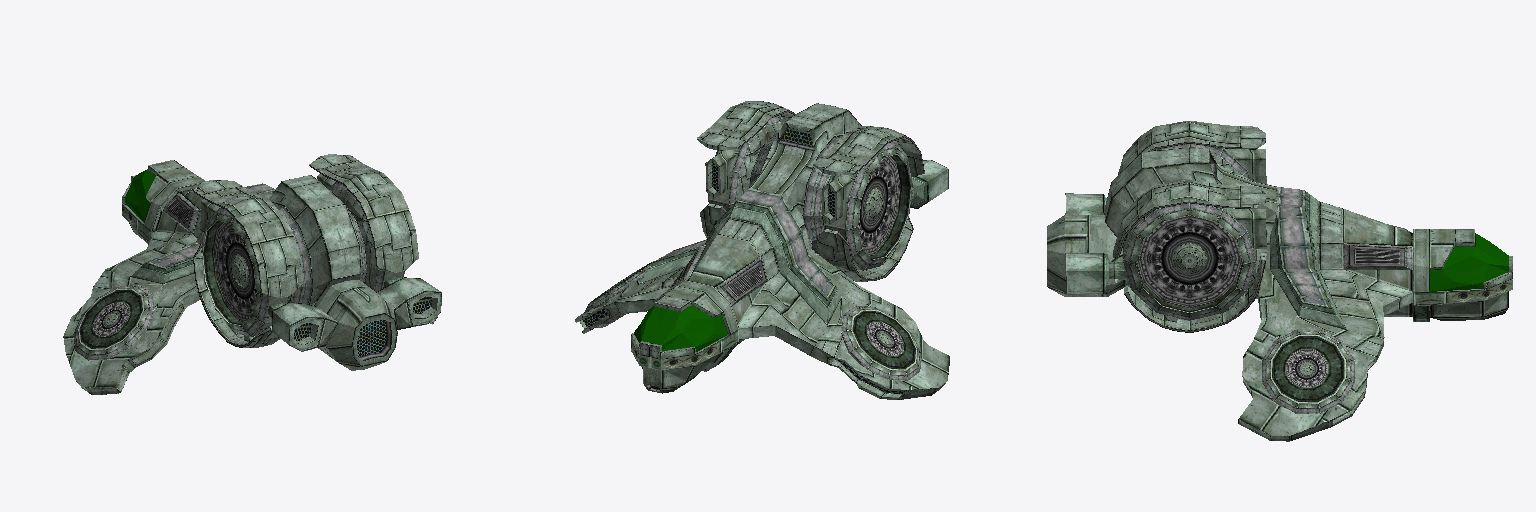
The picture shows the model from 3 angles: view 1: azimuth 30°, elevation 25°; view 2: azimuth 150°, elevation 25°; view 3: azimuth 270°, elevation 25°; orthographic projection.
Visible parts, largest first — view 1: polySurface1_polySurface947; view 2: polySurface1_polySurface947; view 3: polySurface1_polySurface947.
Part boxes in pixels (bbox=[...]): polySurface1_polySurface947: bbox=[63, 154, 441, 394]; polySurface1_polySurface947: bbox=[575, 101, 949, 399]; polySurface1_polySurface947: bbox=[1047, 121, 1512, 441].
Bounding box in the file's own units: 13.55 × 7.63 × 15.6.
Materials: 2 (1 with a texture image).